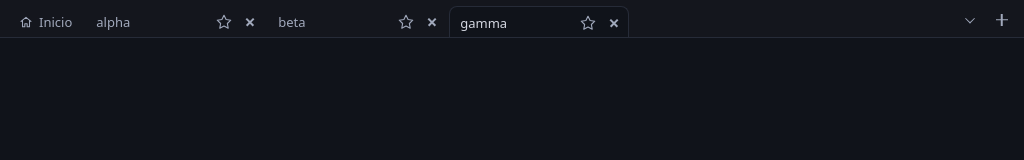
TabBar › the tab menu › opens at the tab that was right-clicked, and from the keyboard's menu key
This screenshot has width=1024, height=160.
Right-click the tab "beta" at {"x": 331, "y": 22}, box [268,7,394,37]
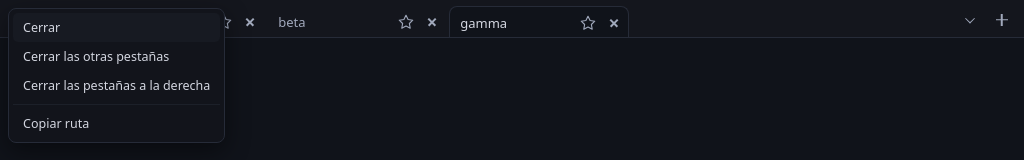
Expected: the menu is shown, [8,8,225,143]
